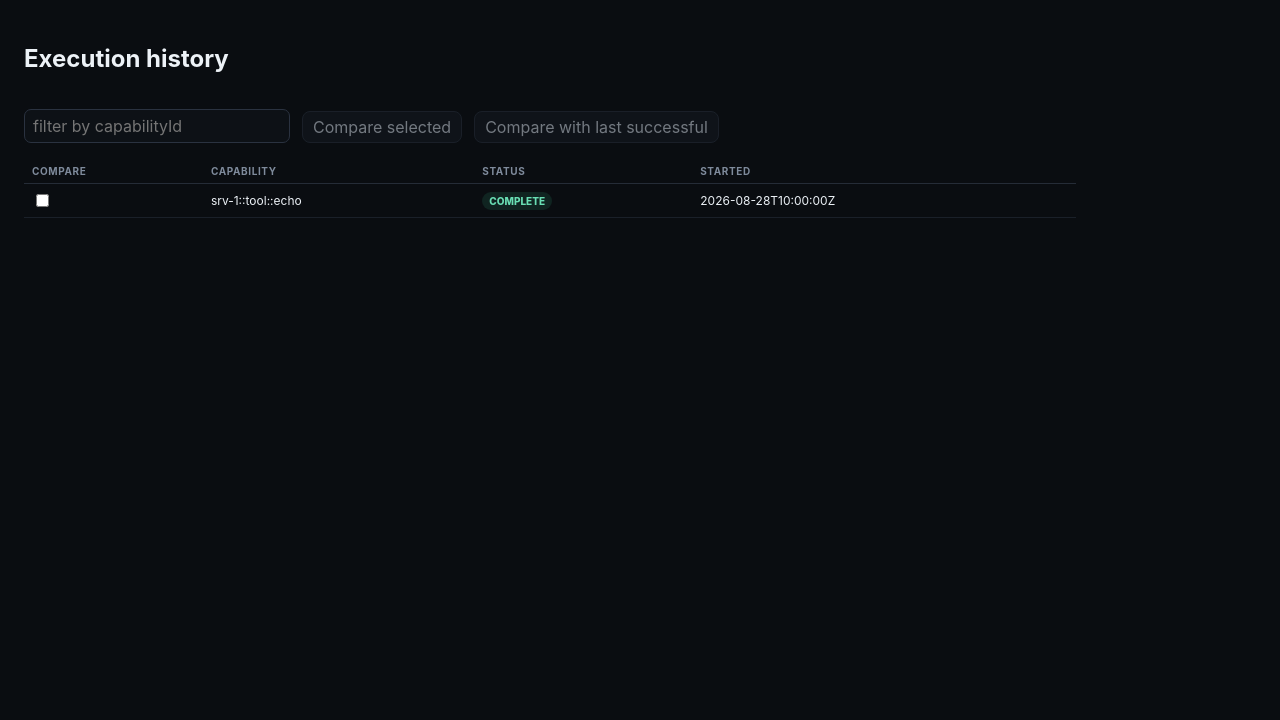
Executions page uses shared CapabilityInspector — Stream D › renders the shared inspector with tabs when an execution is selected
The width and height of the screenshot is (1280, 720).
Click the cell "srv-1::tool::echo": (339, 200) [203,183,474,217]
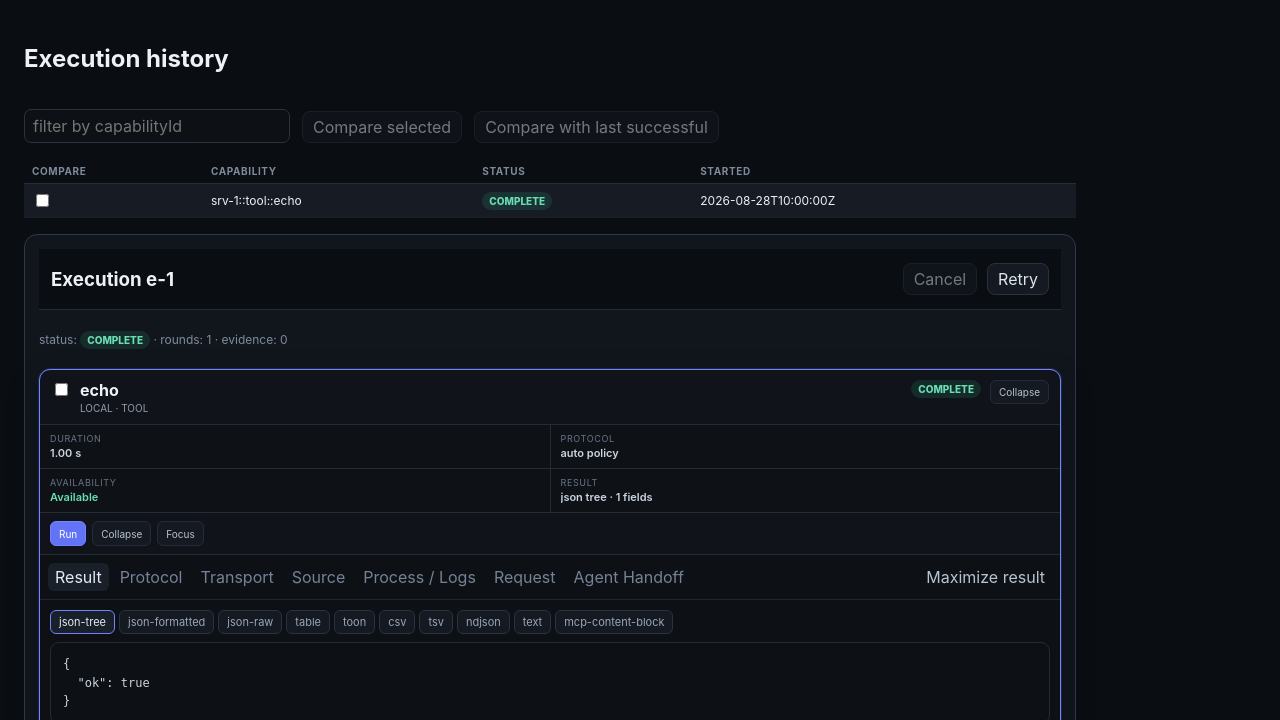
Check: the tab with test id "inspection-tab-result-e-1" is shown, box [48,563,109,591]
Check: the tab with test id "inspection-tab-source-e-1" is shown
Check: the tab with test id "inspection-tab-logs-e-1" is shown, box [356,563,483,591]
Note: Switching to the Source tab renders the placeholder.
Click the tab with test id "inspection-tab-source-e-1": (318, 577) [285,563,352,591]
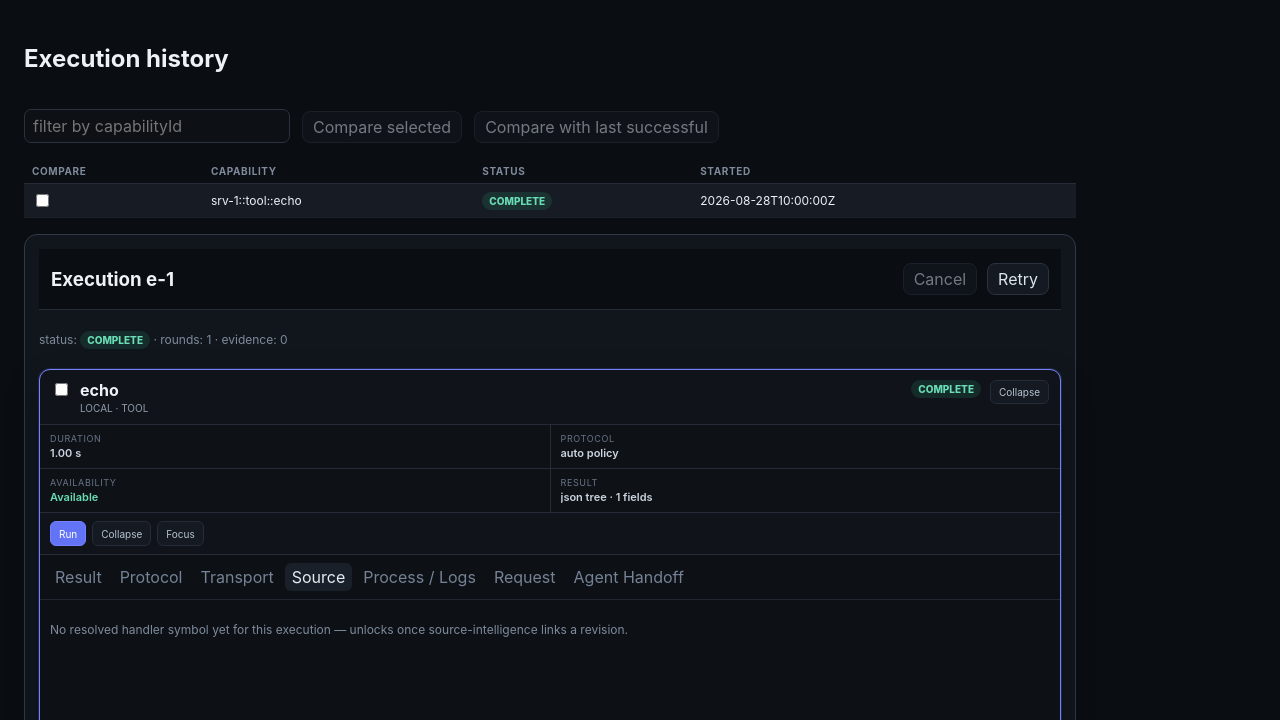
Check: the text with test id "source-tab-placeholder" is shown, box [50,622,628,637]
Click the tab with test id "inspection-tab-logs-e-1": (420, 577) [356,563,483,591]
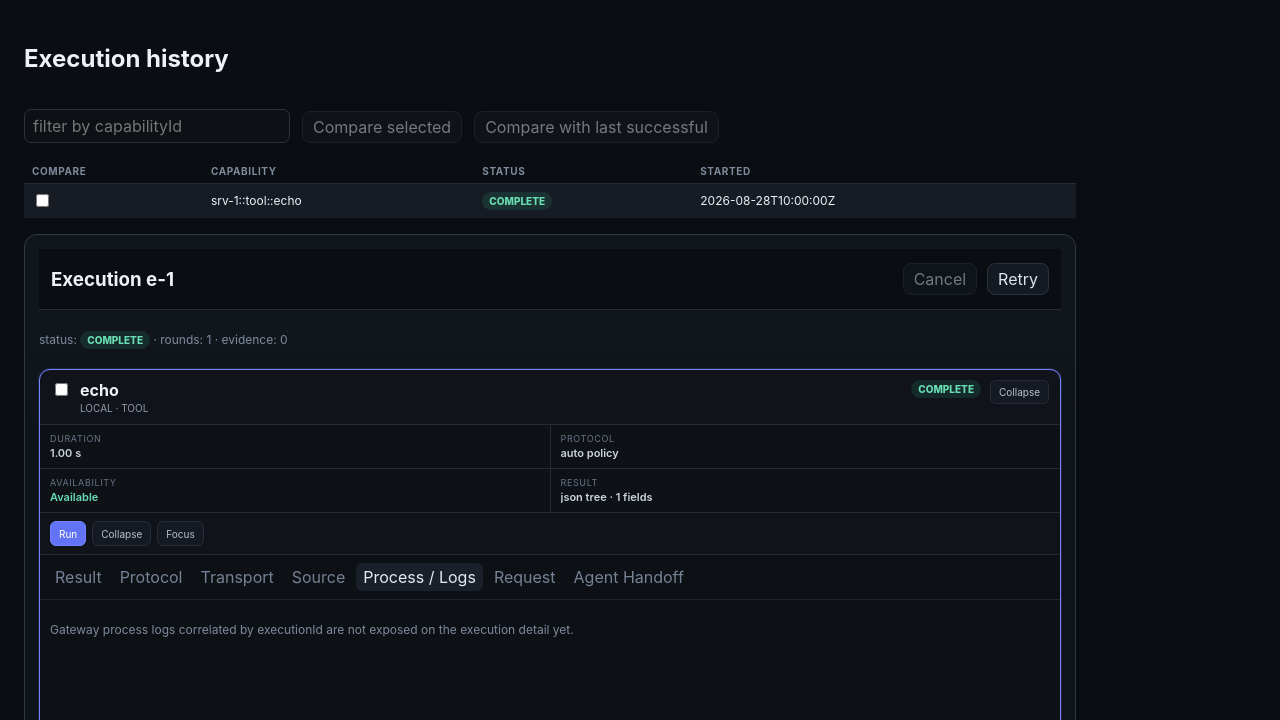
Check: the text with test id "logs-tab-placeholder" is shown, box [50,622,574,637]
